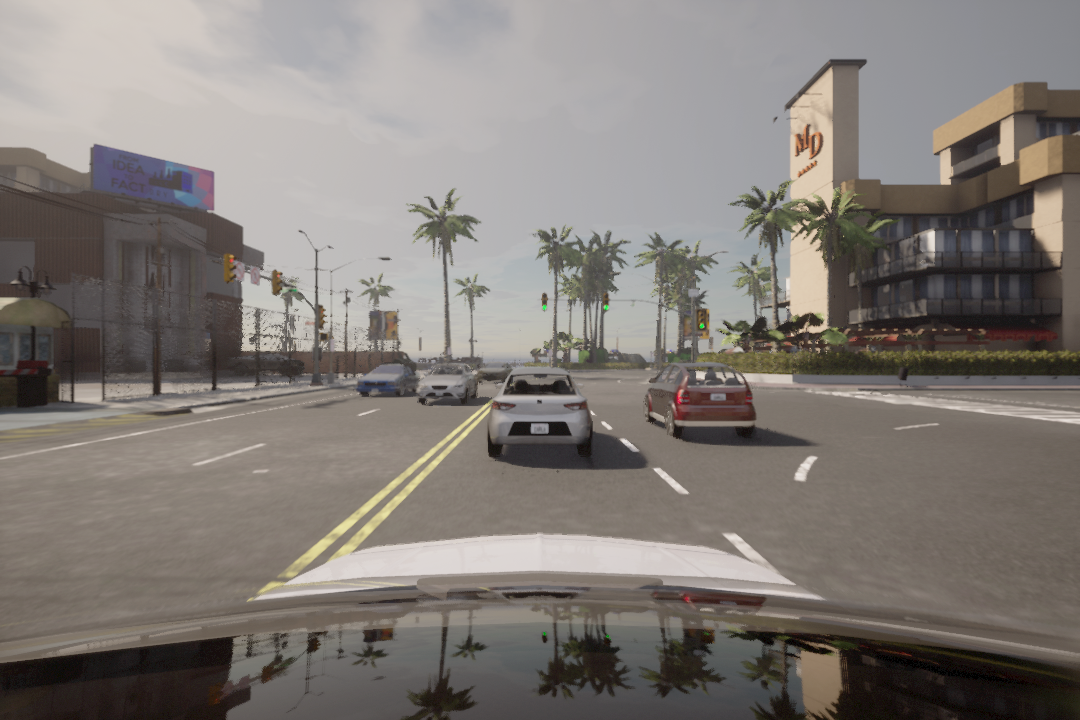TrafficLight: (224, 249, 235, 281), (271, 271, 281, 297), (696, 310, 706, 331), (602, 291, 610, 312), (541, 291, 547, 311)
TrafficSign: (250, 264, 260, 285), (235, 263, 245, 277)
